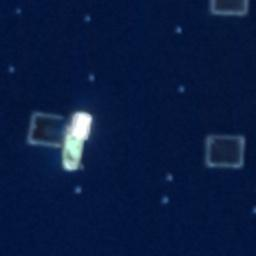square_cover: (21, 105, 74, 150), (202, 127, 249, 167), (205, 1, 252, 25)
